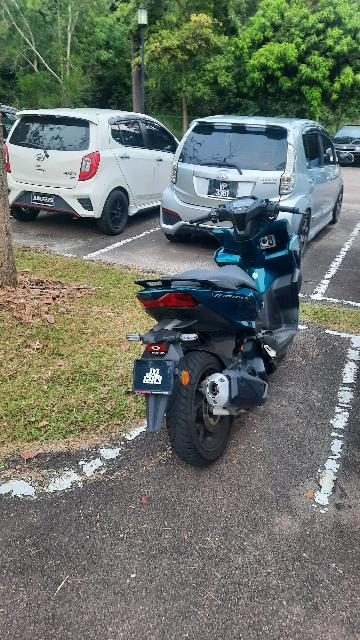License_Plate: (130, 356, 176, 397), (203, 174, 241, 201), (26, 191, 58, 209)
car: (168, 117, 345, 248), (4, 104, 186, 228)
motorcycle: (127, 186, 305, 471)
